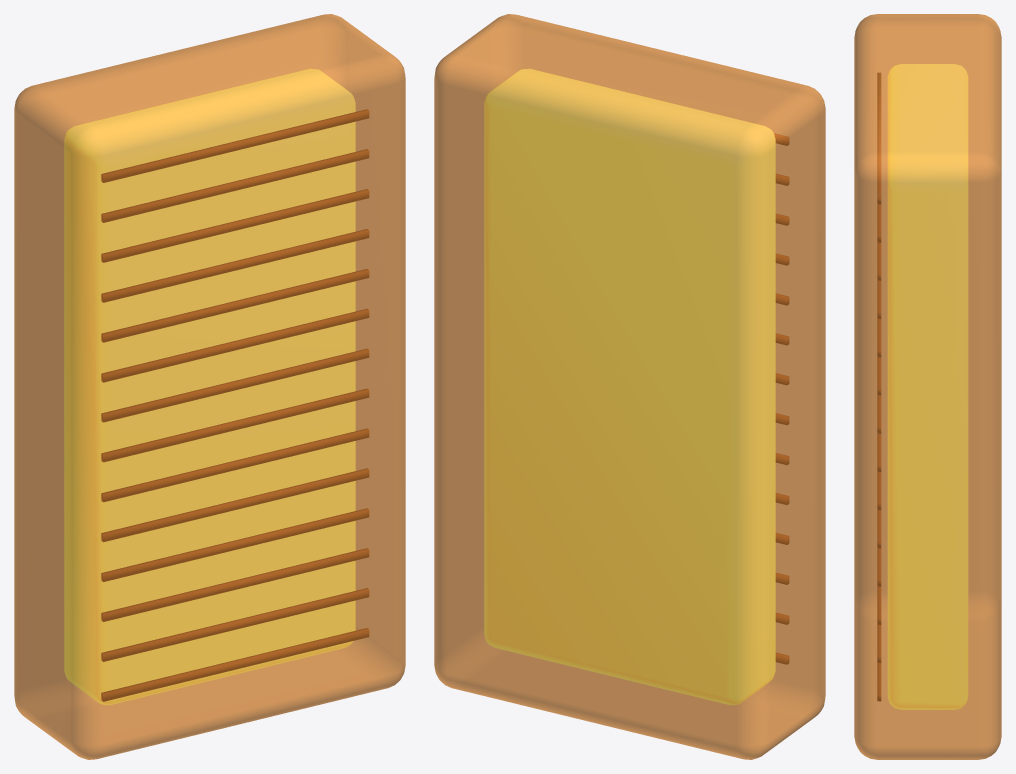
The picture shows the model from 3 angles, left to right: view 1: azimuth 30°, elevation 25°; view 2: azimuth 150°, elevation 25°; view 3: azimuth 270°, elevation 25°; orthographic projection. The views are drawn at different scales.
Parts seen in each view (by area): view 1: shell, core, scan; view 2: shell, core, scan; view 3: shell, core, scan.
Part boxes in pixels (left/top/right/bottom): shell: left=14, top=14, right=405, bottom=759; core: left=64, top=68, right=355, bottom=705; scan: left=101, top=109, right=369, bottom=701; shell: left=434, top=14, right=825, bottom=759; core: left=484, top=68, right=775, bottom=705; scan: left=774, top=133, right=789, bottom=664; shell: left=854, top=14, right=1001, bottom=759; core: left=887, top=64, right=968, bottom=709; scan: left=877, top=72, right=881, bottom=701.
Size of the model in its own units: 0.55 by 1 by 0.22.
